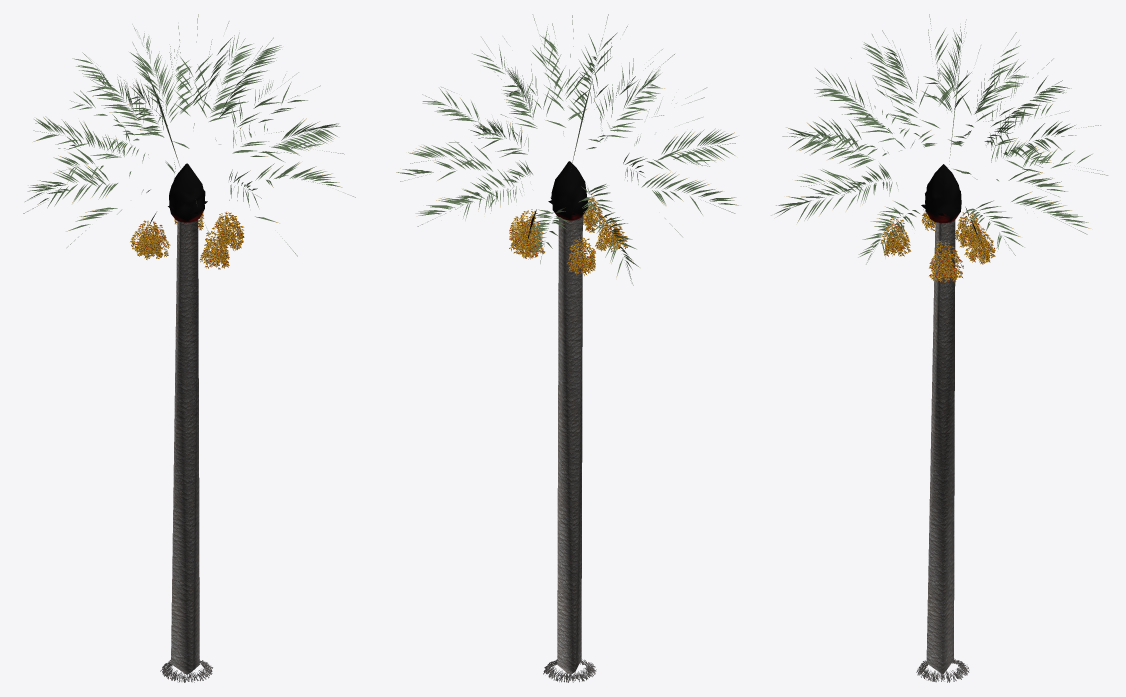
File: assets__ph__palm_a.glb
The picture shows the model from 3 angles, left to right: view 1: azimuth 30°, elevation 25°; view 2: azimuth 150°, elevation 25°; view 3: azimuth 270°, elevation 25°; orthographic projection.
Parts seen in each view (by area): view 1: Phoenix_dactylifera_HD; view 2: Phoenix_dactylifera_HD; view 3: Phoenix_dactylifera_HD.
Boxes of the visible parts, x1,y1,x2,y2 form: Phoenix_dactylifera_HD: [23, 14, 355, 682]; Phoenix_dactylifera_HD: [396, 14, 738, 682]; Phoenix_dactylifera_HD: [771, 14, 1107, 682].
Bounding box in the file's own units: 6.48 × 13.61 × 6.63.
Materials: 10 (10 with a texture image).
